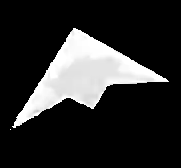Plane: (1, 19, 174, 137)
